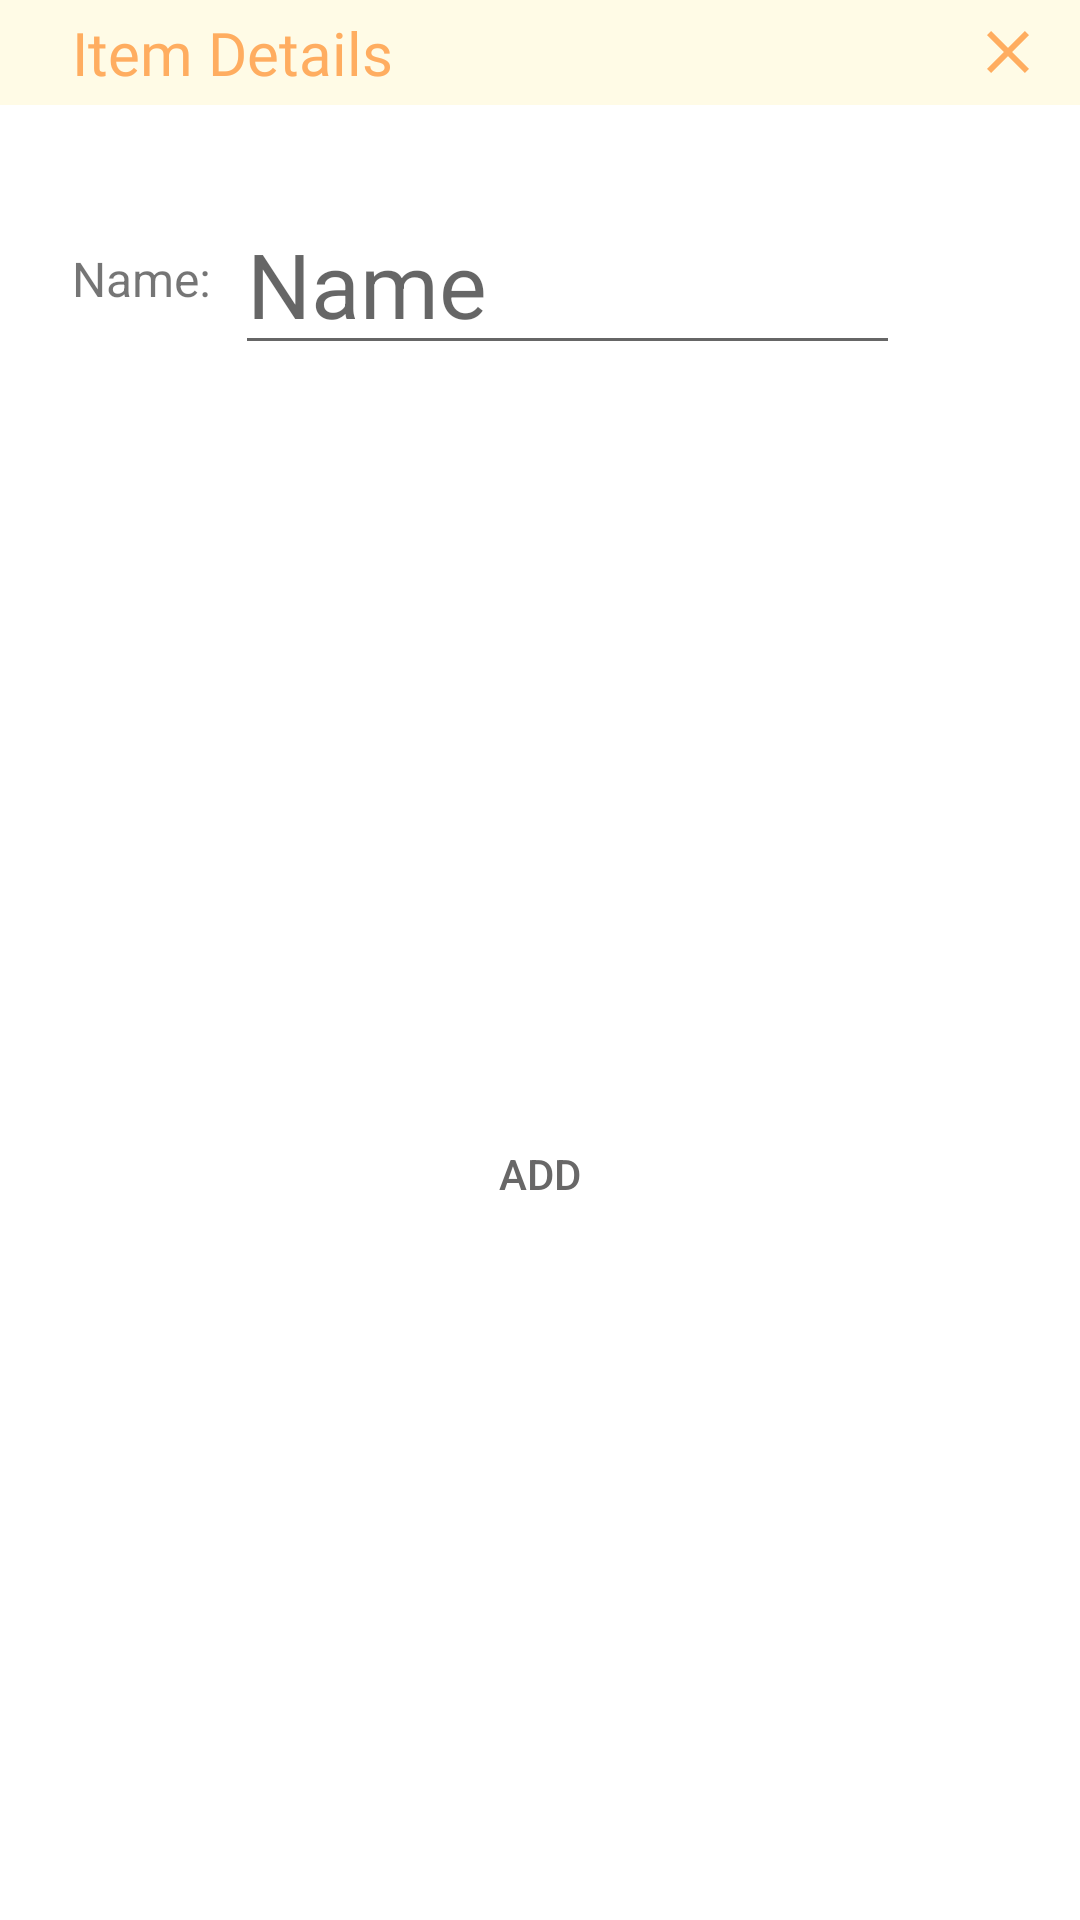

Icon click points for this 1080px×1920px phone screenshot, format (x=x, y=y):
close: (x=1008, y=52)
